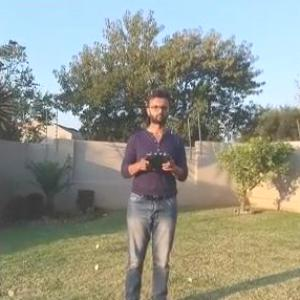follow: (114, 85, 193, 299)
